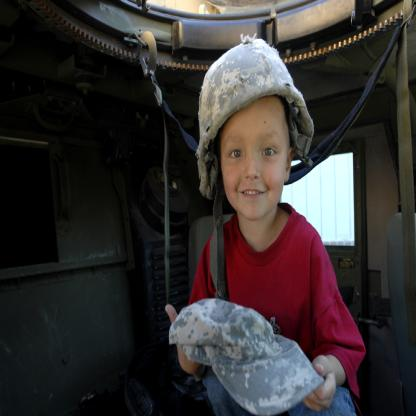Helmet: (204, 44, 306, 203)
